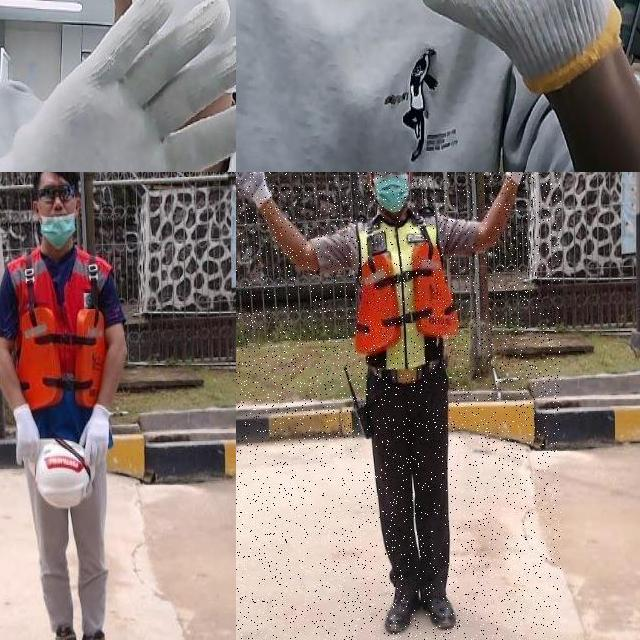BOOTS: (384, 580, 422, 637), (422, 585, 459, 635), (45, 624, 77, 640)
GLASS: (34, 183, 79, 204), (367, 172, 410, 178)
GLOVE: (0, 0, 236, 172), (408, 0, 621, 86), (80, 404, 115, 465), (13, 402, 43, 465), (236, 172, 274, 209)
HELMET: (27, 439, 96, 510)
VEST: (9, 247, 114, 451), (357, 214, 460, 370)
